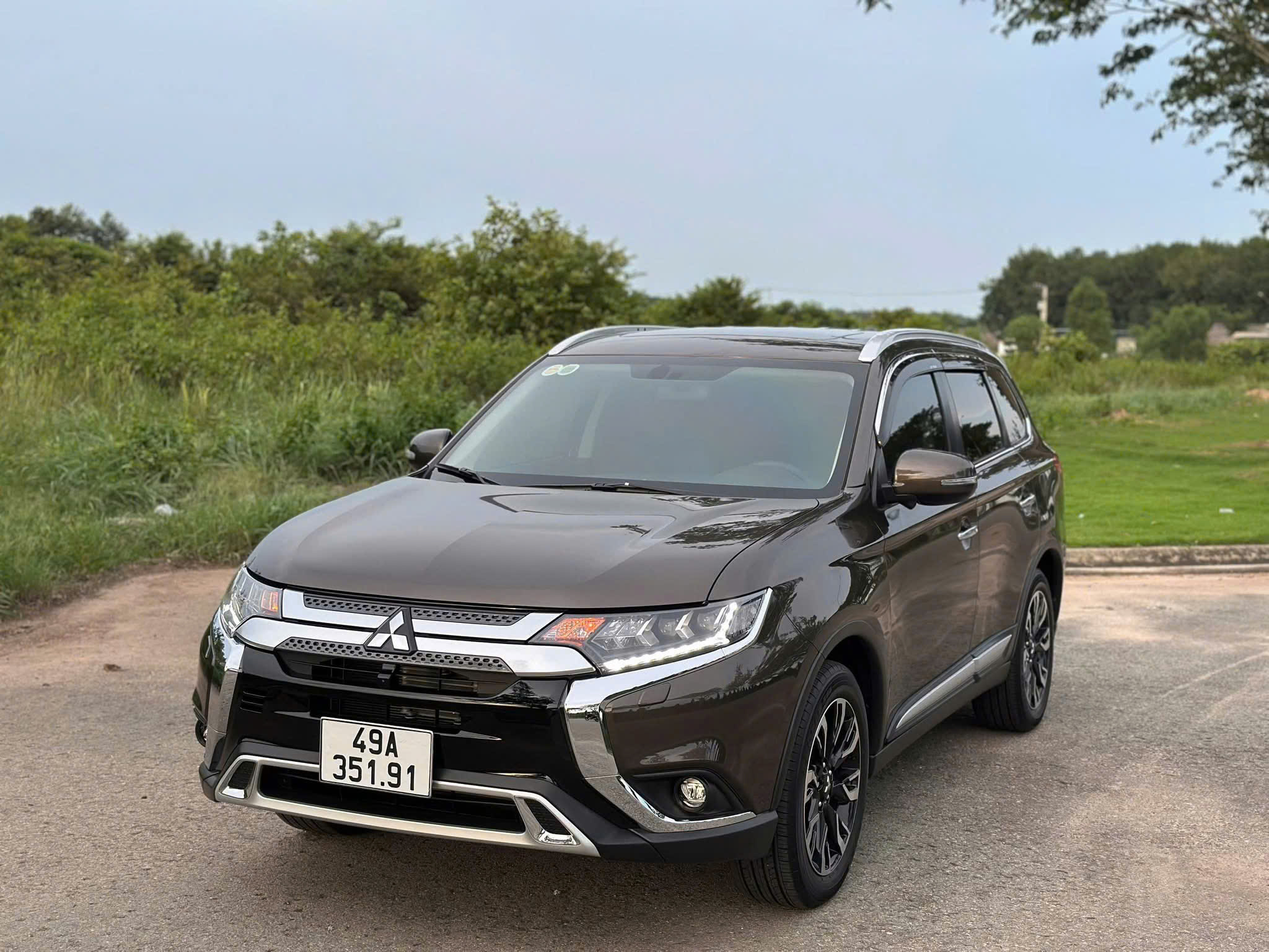Bien-so: (318, 711, 441, 798)
